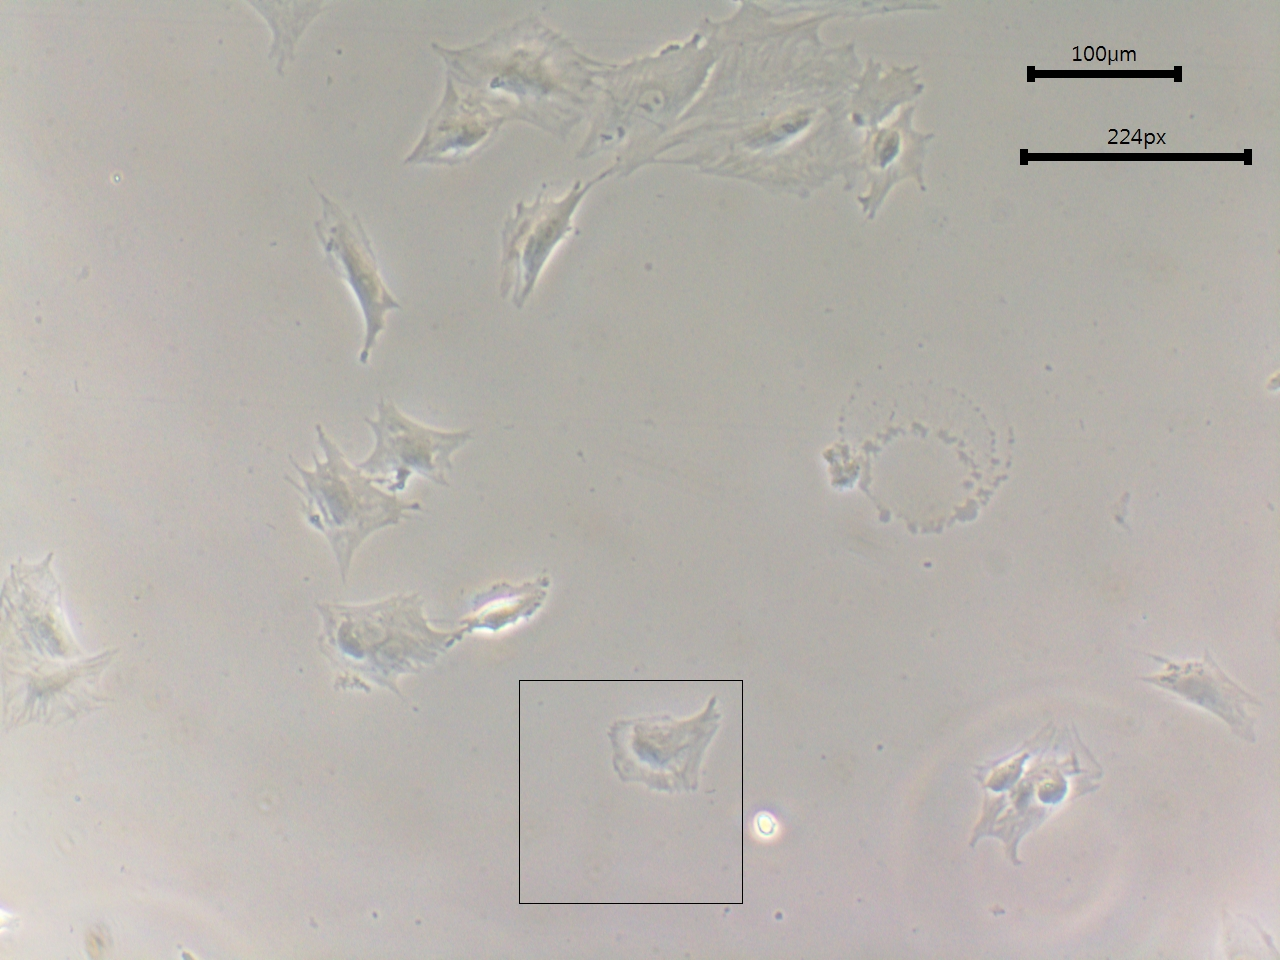medium-spread: (962, 694, 1123, 883), (605, 695, 729, 804)
